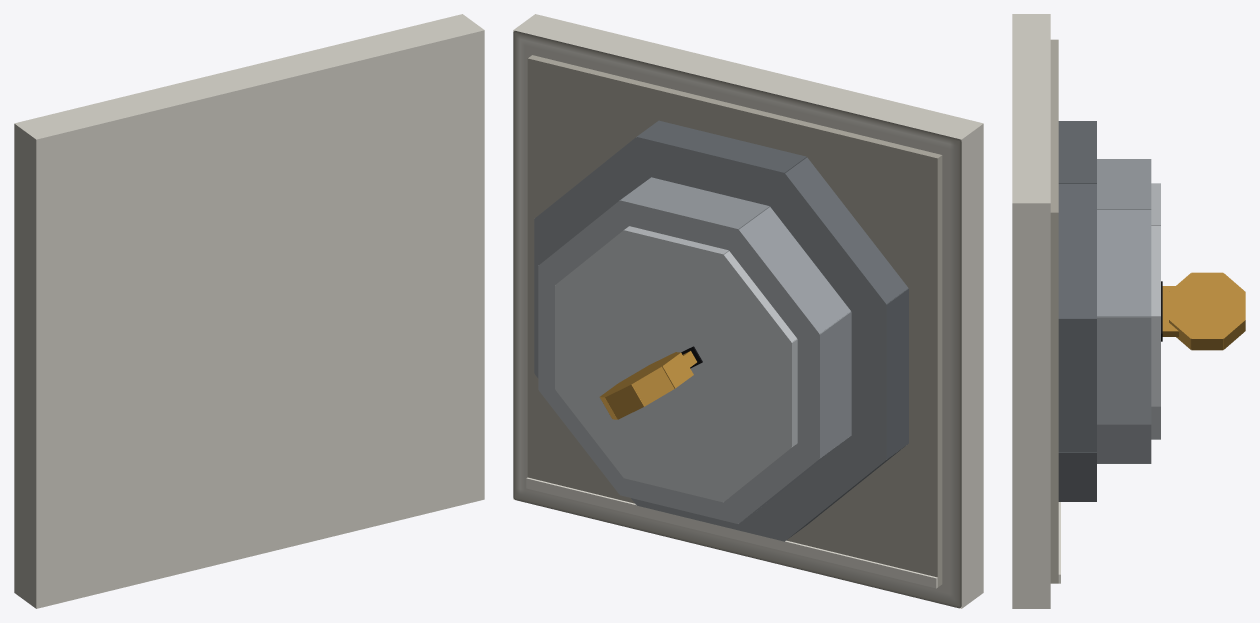
File: key_switch_open_key.obj
3 views of the same model, side by side, from view 1: azimuth 30°, elevation 25°; view 2: azimuth 150°, elevation 25°; view 3: azimuth 270°, elevation 25° (orthographic). The views are drawn at different scales.
Visible parts, largest first — view 1: Panel; view 2: Knob, Panel, Key; view 3: Knob, Panel, Key.
Boxes of the visible parts, x1,y1,x2,y2 form: Panel: (14,14,484,608); Knob: (534,120,908,541); Panel: (513,14,983,608); Key: (599,351,696,419); Knob: (1058,121,1162,501); Panel: (1012,14,1060,608); Key: (1162,272,1245,350).
Bounding box in the file's own units: 0.875 × 0.875 × 0.4563.
Materials: 1 (1 with a texture image).
